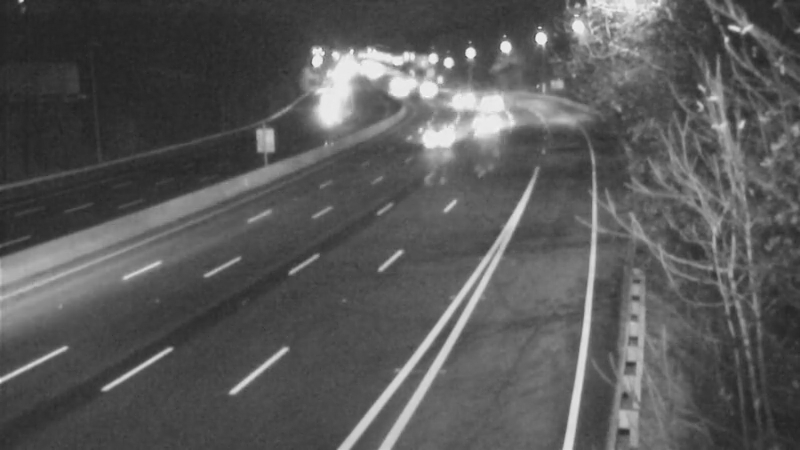vehicle: (397, 59, 447, 109), (375, 68, 425, 118), (436, 73, 486, 123), (468, 81, 518, 131), (468, 100, 518, 150), (415, 114, 465, 164)
